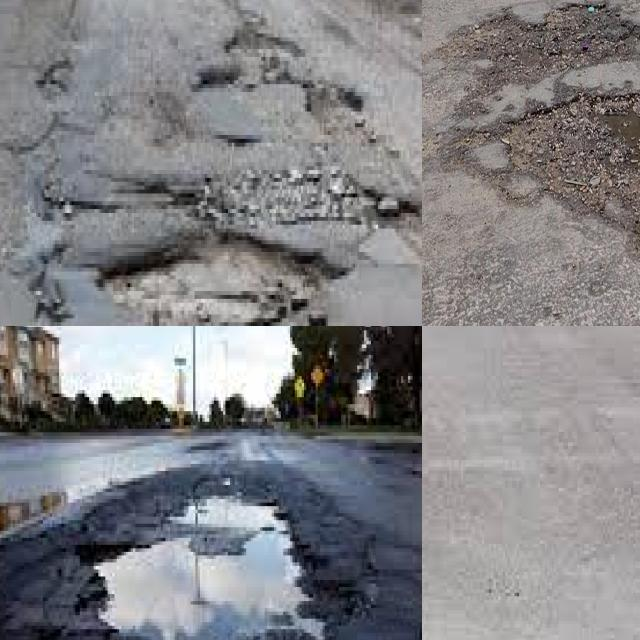Pothole: (98, 499, 371, 640), (153, 30, 368, 143), (501, 81, 640, 221), (105, 244, 309, 326), (471, 0, 640, 86), (378, 197, 422, 254)
